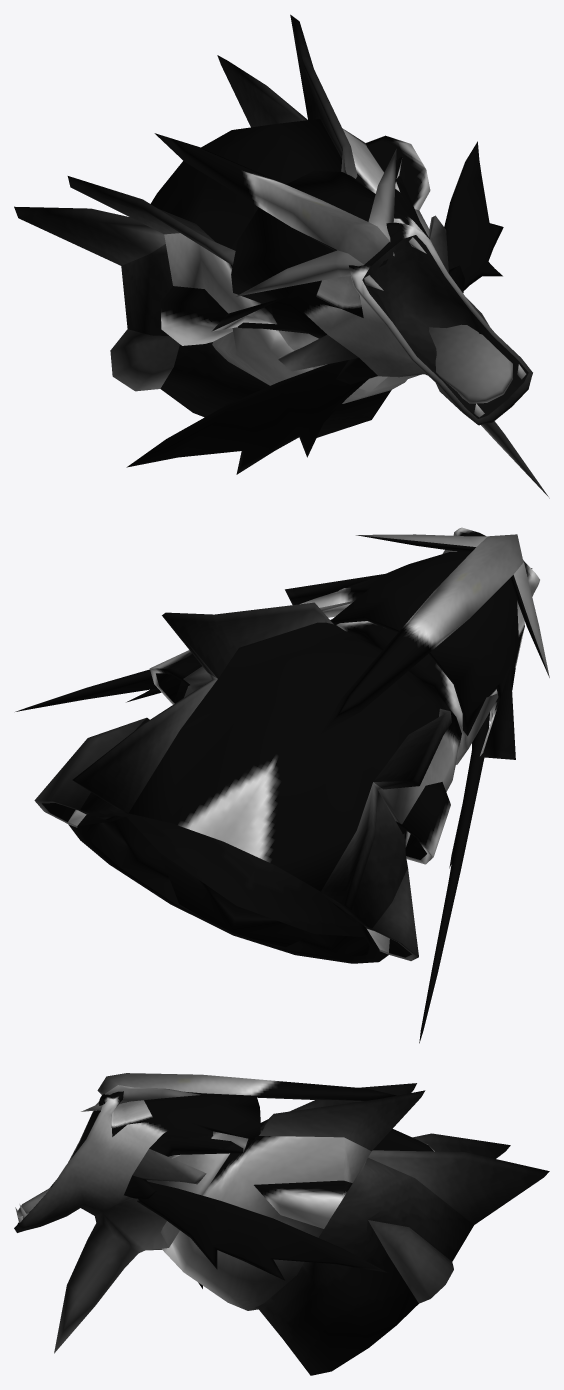
File: 0094_M_megabaolilong1.glb
3 renders of one model, top to bottom at view 1: azimuth 30°, elevation 25°; view 2: azimuth 150°, elevation 25°; view 3: azimuth 270°, elevation 25°, orthographic. The views are drawn at different scales.
Bounding box in the file's own units: 1.48 × 1.36 × 2.2.
Materials: 1 (1 with a texture image).
